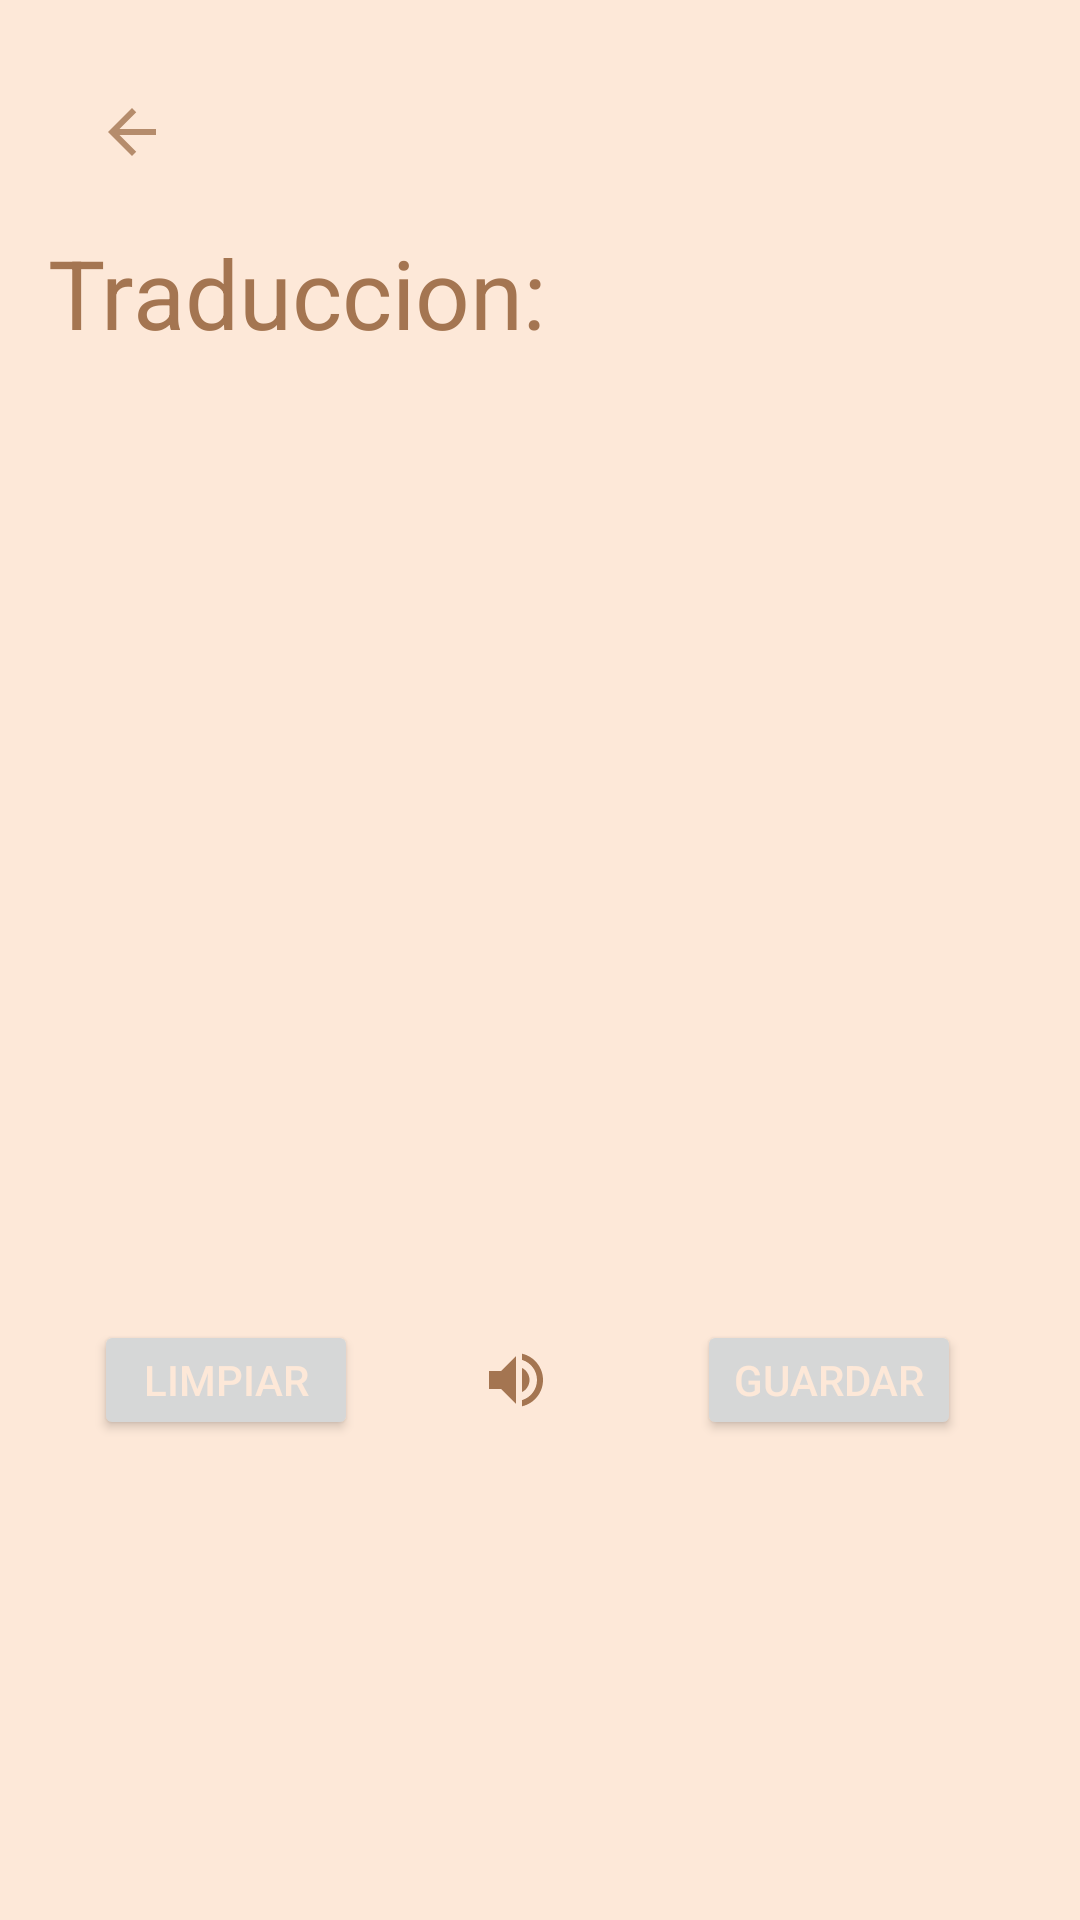

Point at icon controls on the screen. Image size 1080×1920, points as (x,y).
arrow back: (132,132)
volume up: (516,1380)
